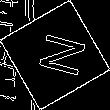N_W: (25, 29, 85, 81)
